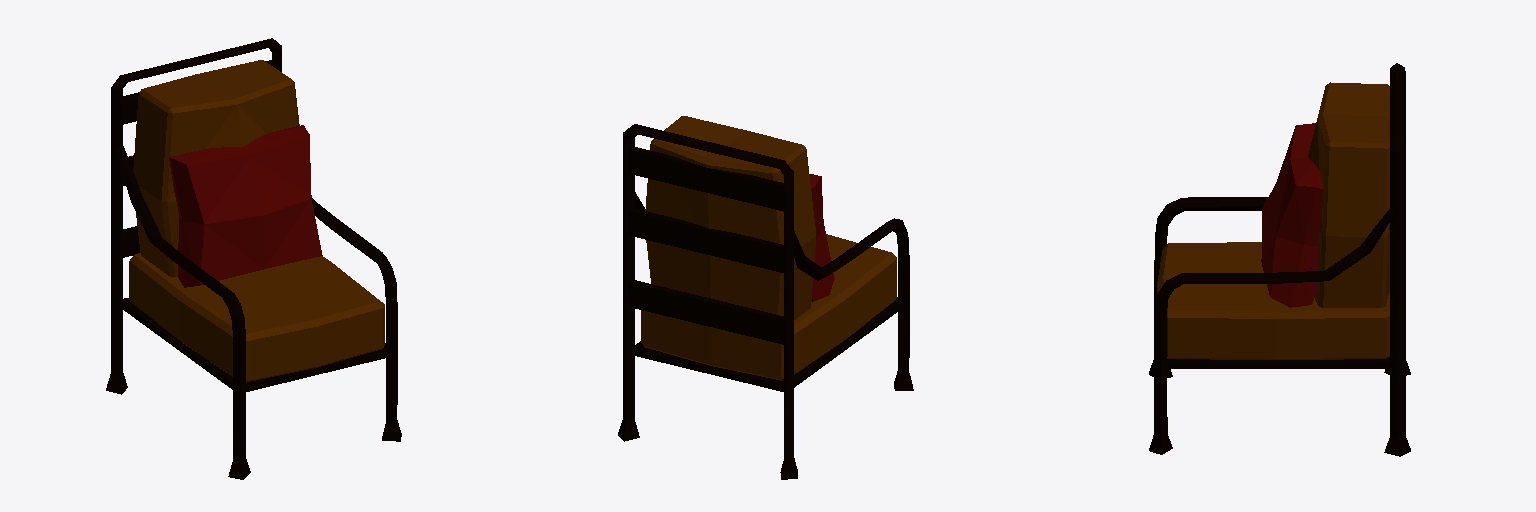
File: Chair1.obj
3 renders of one model, left to right at view 1: azimuth 30°, elevation 25°; view 2: azimuth 150°, elevation 25°; view 3: azimuth 270°, elevation 25°, orthographic.
Parts seen in each view (by area): view 1: Chair1_Cube.007; view 2: Chair1_Cube.007; view 3: Chair1_Cube.007.
Part boxes in pixels (left/top/right/bottom): Chair1_Cube.007: left=106, top=38, right=401, bottom=479; Chair1_Cube.007: left=618, top=116, right=913, bottom=479; Chair1_Cube.007: left=1149, top=63, right=1410, bottom=456.
Size of the model in its own units: 0.8759 by 1.45 by 1.11.